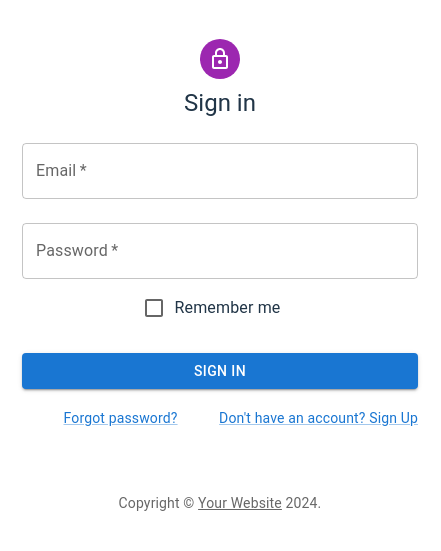
it: BottomAppBar › password error
Click the button "Sign In" at [220, 371], box [22,353,418,389]
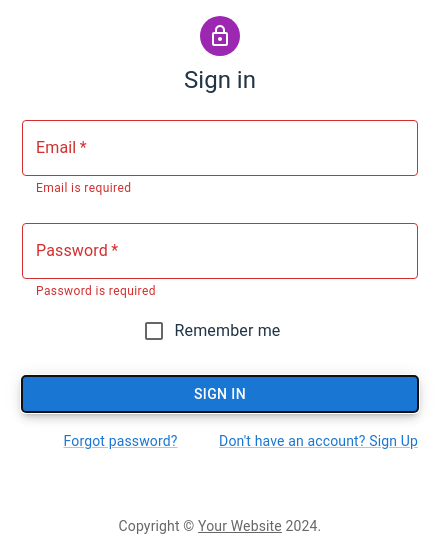
Check: the text "Password is required" is shown, box [36,284,156,298]
